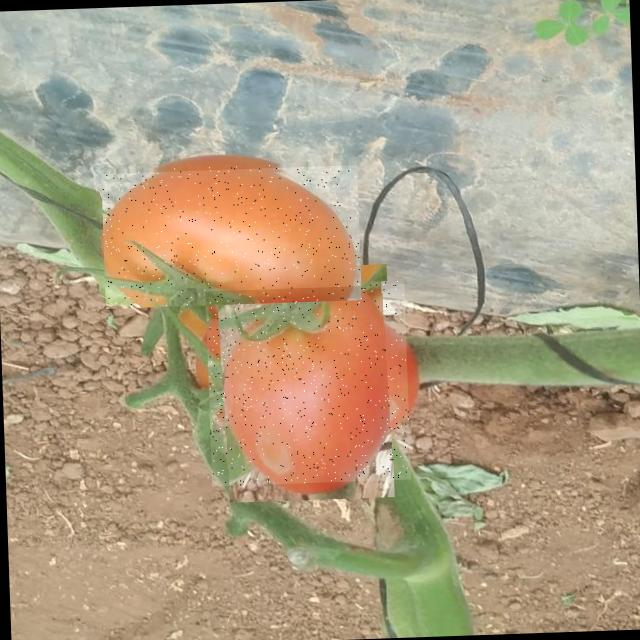Ripe Tomato: (204, 280, 410, 486), (100, 161, 362, 308)
